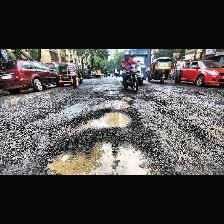pothole: (38, 133, 170, 173), (76, 108, 140, 128), (113, 100, 128, 108), (122, 94, 134, 102), (103, 90, 120, 94)
